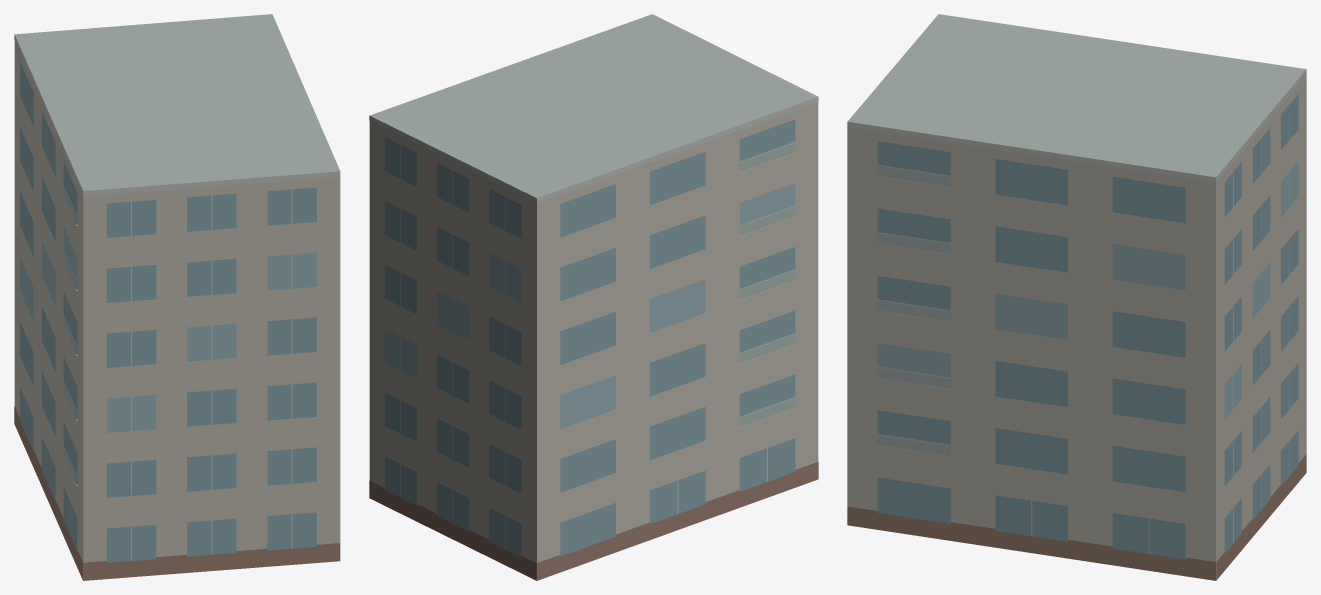
The model's file is survey-upis-32709538.glb.
3 renders of one model, left to right at view 1: azimuth 30°, elevation 25°; view 2: azimuth 150°, elevation 25°; view 3: azimuth 270°, elevation 25°, orthographic. The views are drawn at different scales.
Visible parts, largest first — view 1: survey-upis-32709538.tmp; view 2: survey-upis-32709538.tmp; view 3: survey-upis-32709538.tmp.
Boxes of the visible parts, <box> form: survey-upis-32709538.tmp: <box>14,14,340,580</box>; survey-upis-32709538.tmp: <box>369,14,818,580</box>; survey-upis-32709538.tmp: <box>847,14,1306,580</box>.
Bounding box in the file's own units: 15.89 × 18.3 × 18.88.
